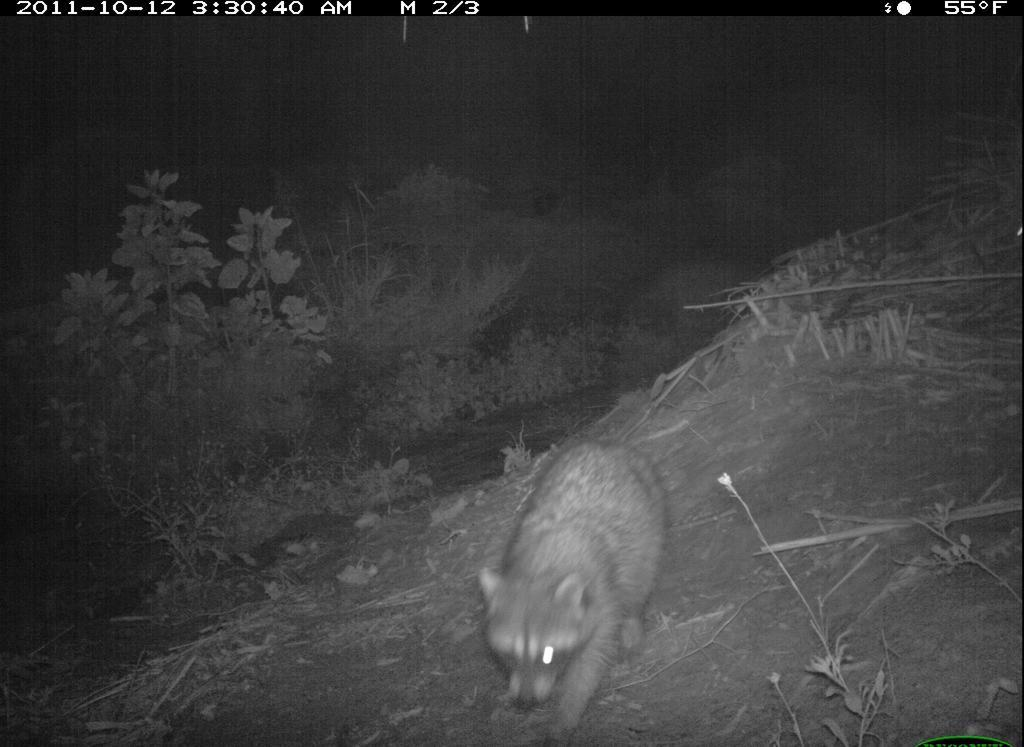raccoon: (470, 417, 684, 742)
